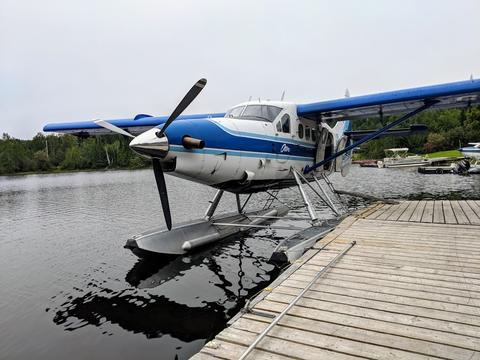Aeronef_commercial: (38, 67, 480, 274)
